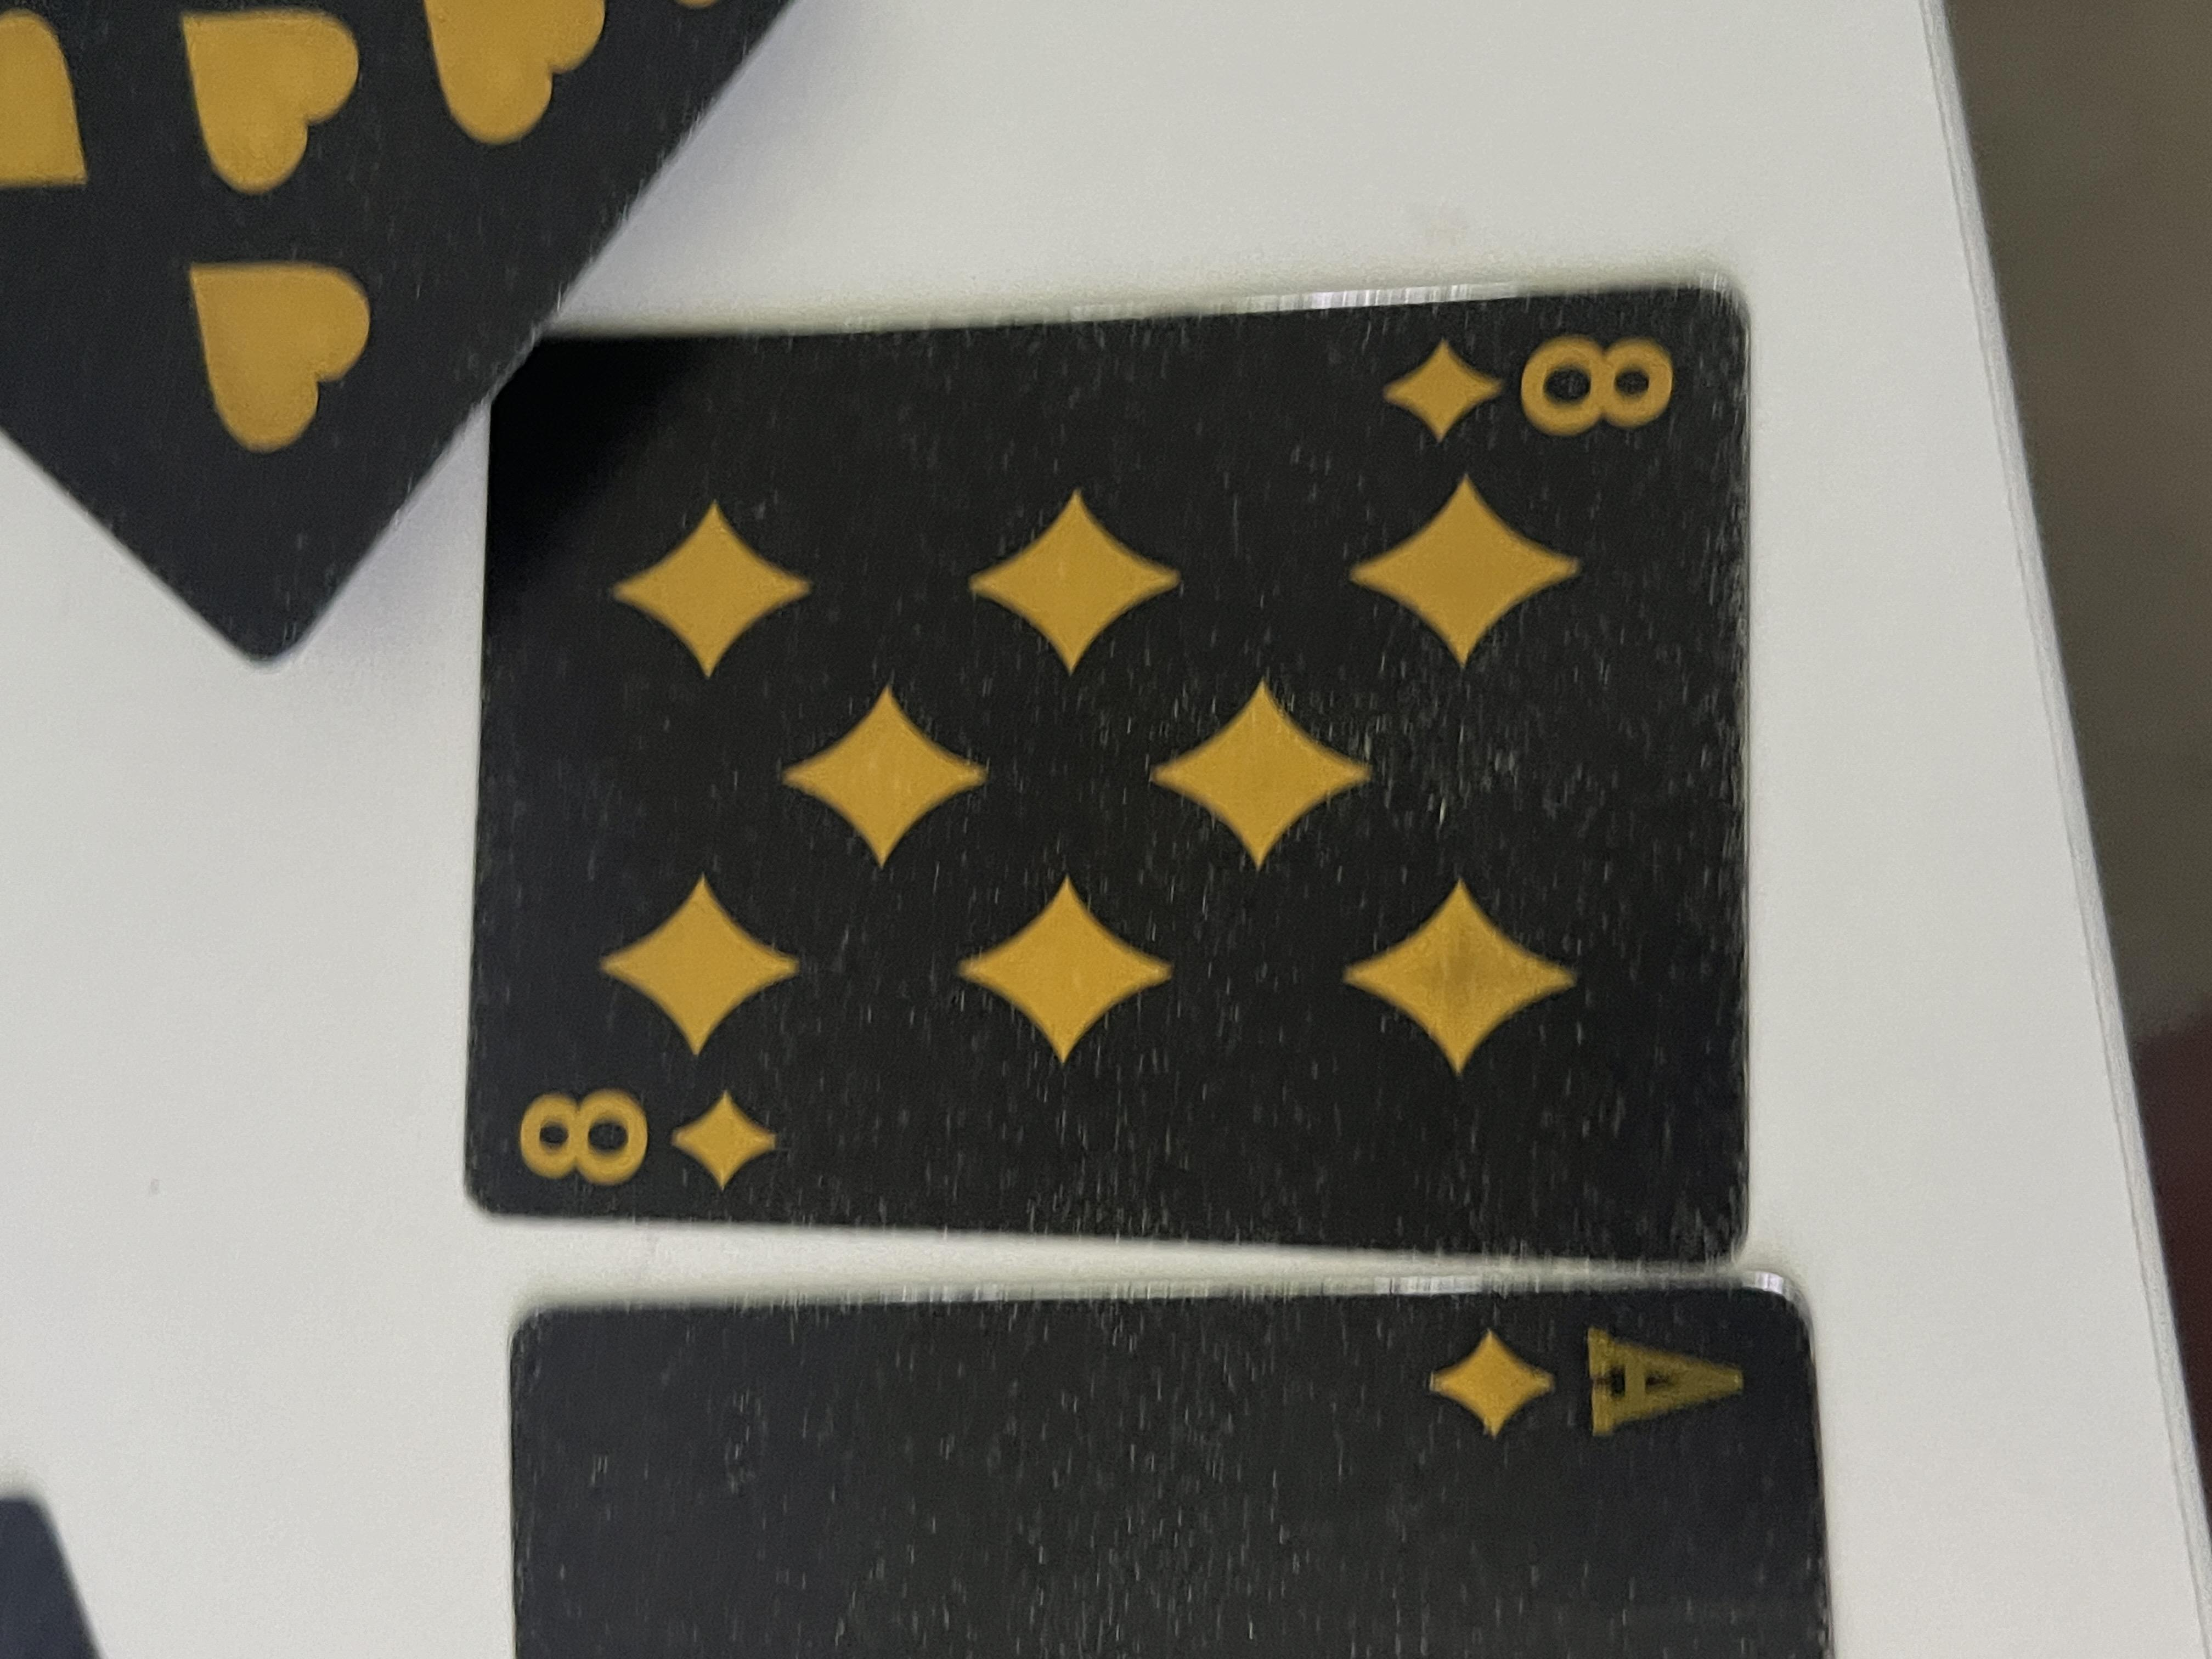8D: (1587, 1016, 1792, 1272), (608, 369, 801, 586)
AD: (282, 1068, 516, 1349)
